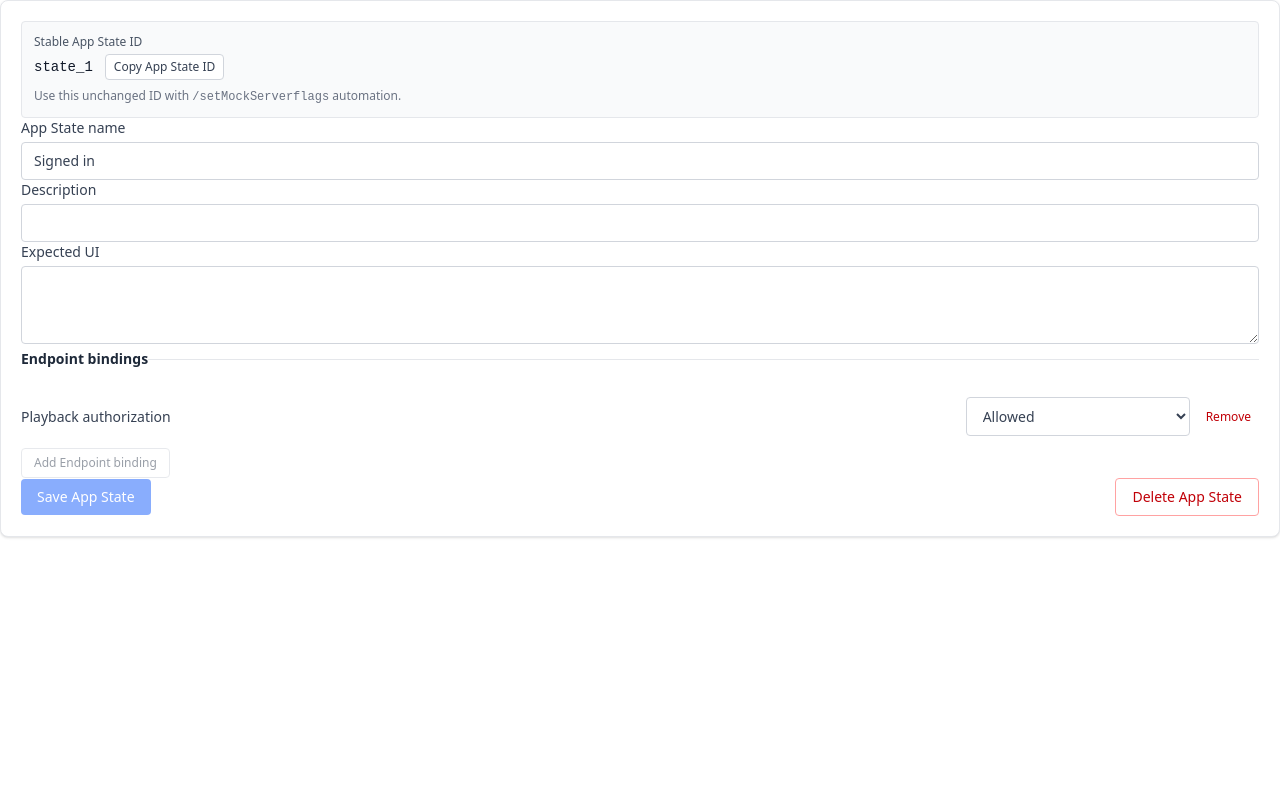
AppStateEditor › preserves the editor, warning, and draft when deletion conflicts
The image size is (1280, 800).
Type "Local screen" into the text box labelled "Expected UI".
click(640, 305); type("Local screen")  # box top-left (21, 266), bottom-right (1259, 344)
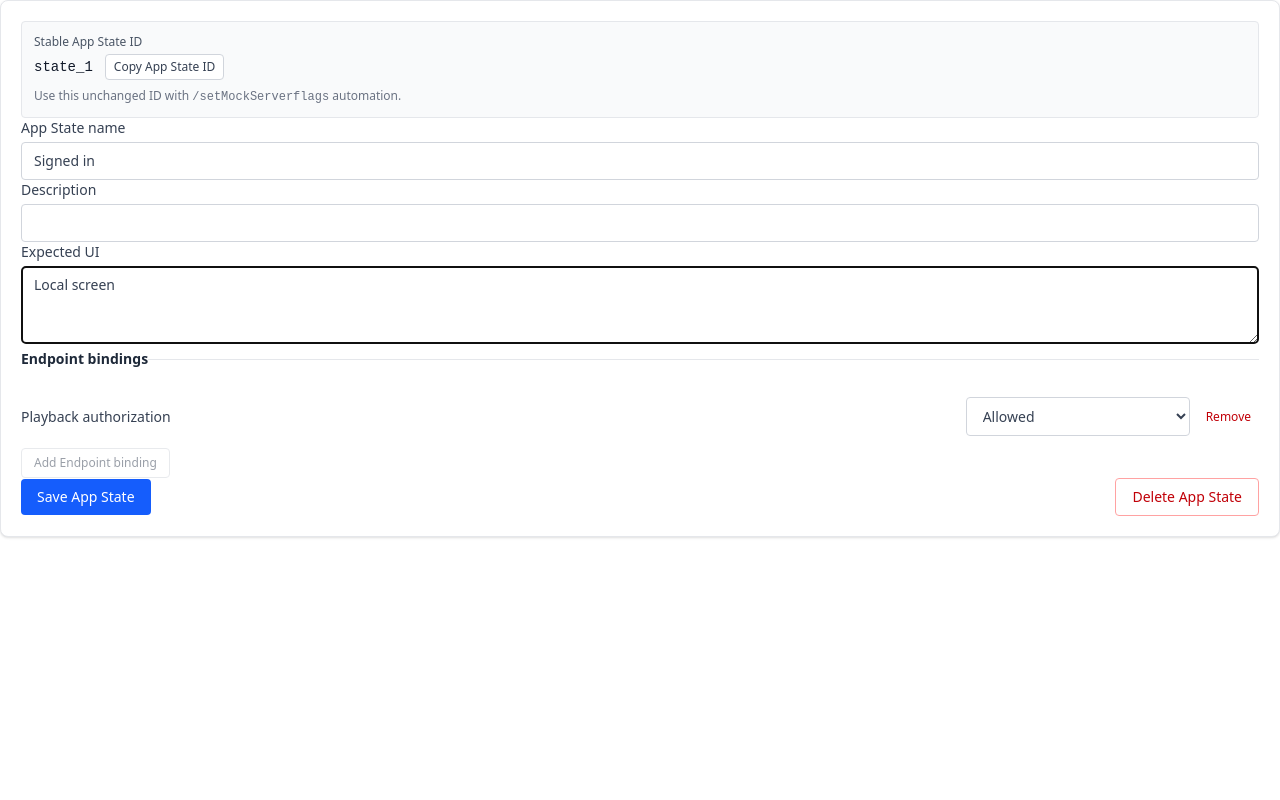
Click the button "Delete App State".
click(1187, 497)  # box top-left (1115, 478), bottom-right (1259, 516)
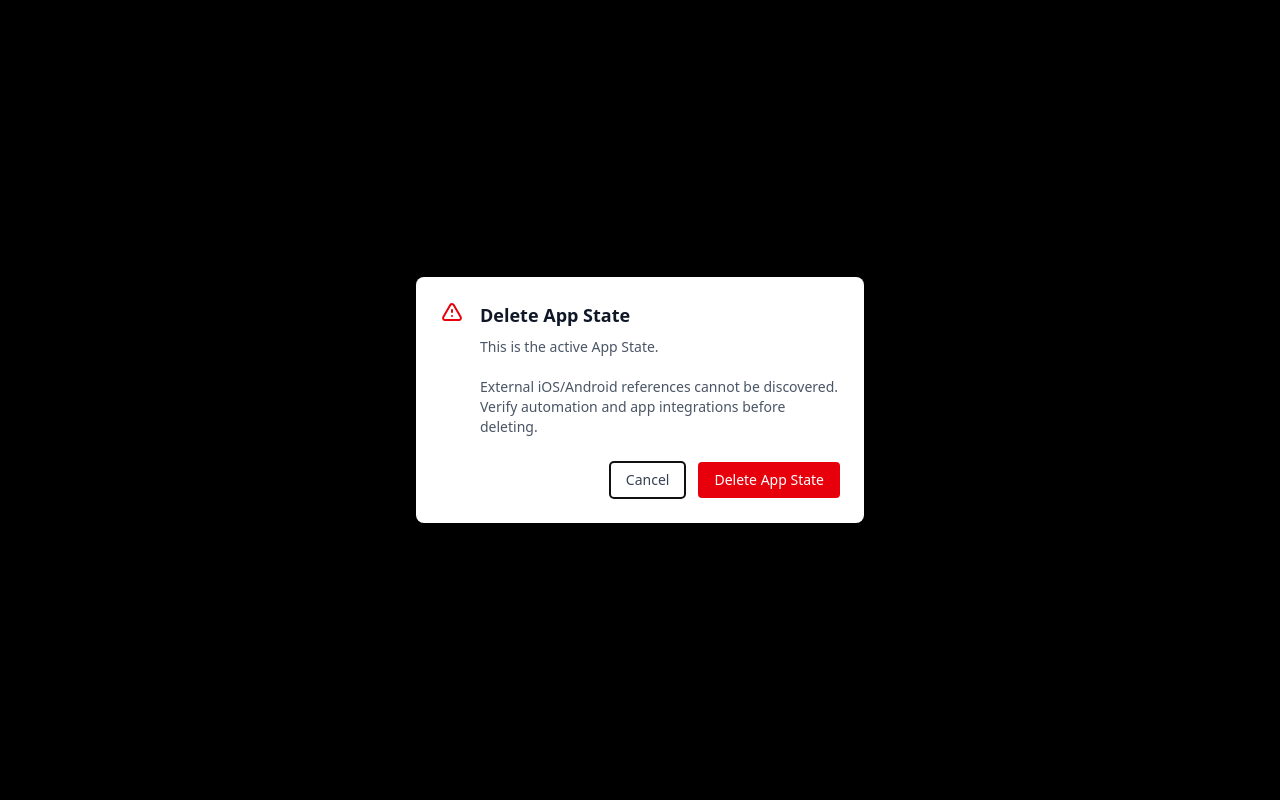
Click the button "Delete App State".
click(769, 480)  # box top-left (698, 462), bottom-right (840, 498)
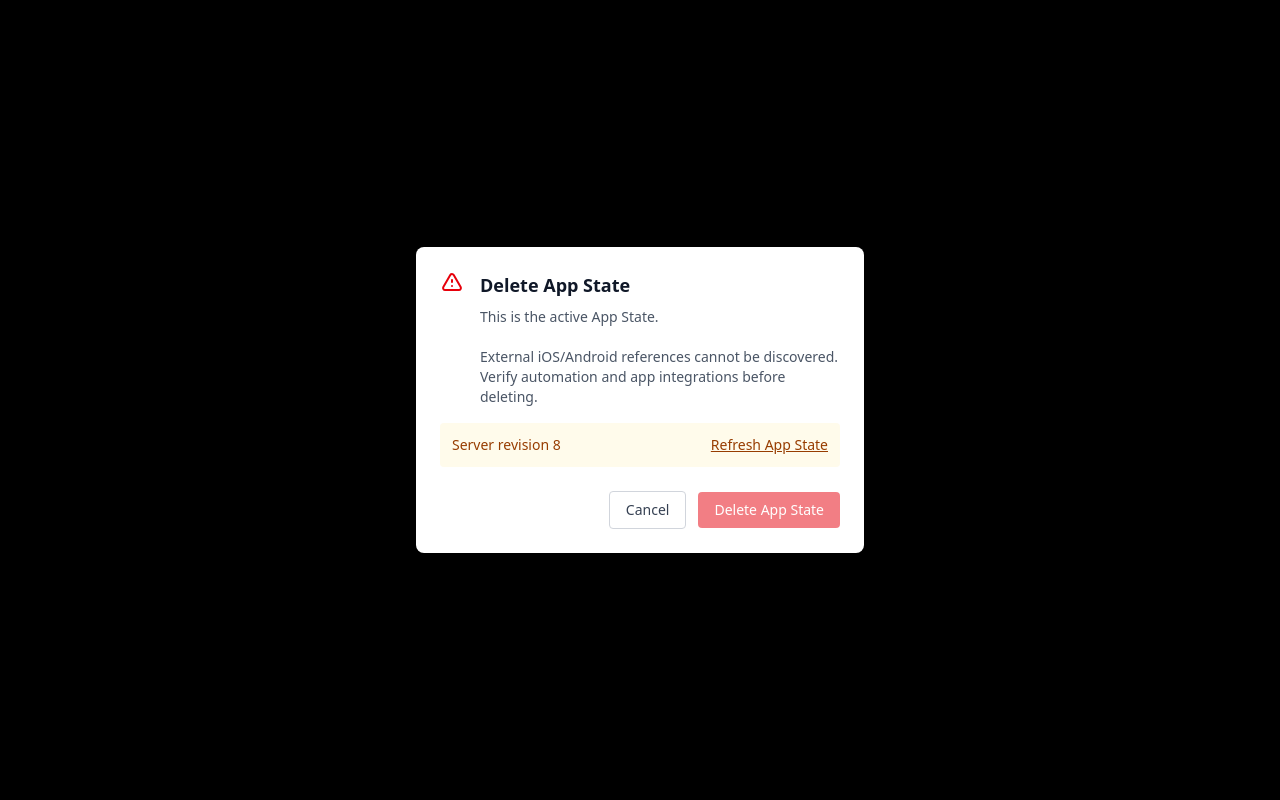
Expected: the dialog "Delete App State" is shown, top-left (416, 247), bottom-right (864, 553)
Expected: the text "Server revision 8" is shown, top-left (452, 435), bottom-right (561, 455)
Expected: the button "Refresh App State" is shown, top-left (711, 435), bottom-right (828, 455)
